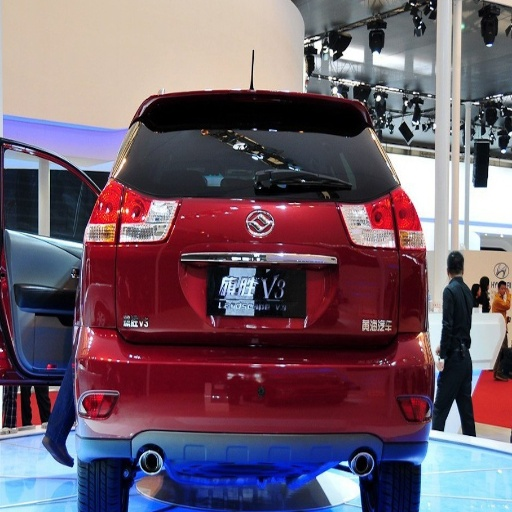_background_: (69, 256, 424, 507)
back_bumper: (121, 103, 386, 196)
back_left_door: (84, 178, 124, 292)
back_right_door: (391, 188, 426, 265)
right_mirror: (199, 264, 312, 345)
tailgate: (97, 189, 402, 435)
trunk: (361, 467, 419, 511), (77, 464, 127, 511)
